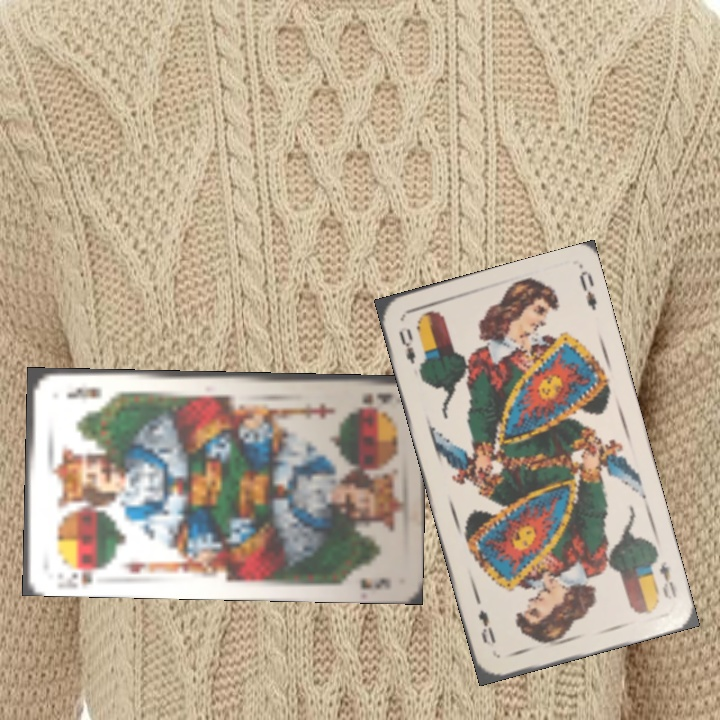EO: (394, 324, 426, 374), (655, 557, 680, 603)
SK: (58, 561, 107, 588), (358, 388, 397, 406)
